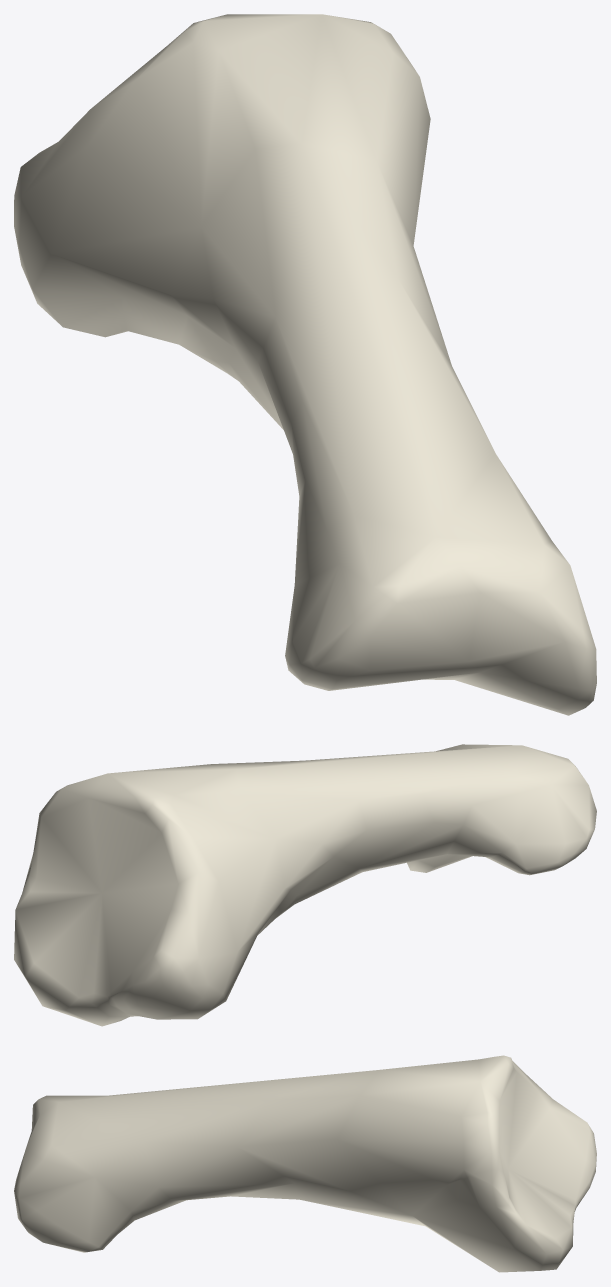
The picture shows the model from 3 angles, top to bottom: view 1: azimuth 30°, elevation 25°; view 2: azimuth 150°, elevation 25°; view 3: azimuth 270°, elevation 25°; orthographic projection. The views are drawn at different scales.
Parts seen in each view (by area): view 1: ZA_e9ea85158fac7e98; view 2: ZA_e9ea85158fac7e98; view 3: ZA_e9ea85158fac7e98.
Part boxes in pixels (x1=…): ZA_e9ea85158fac7e98: x1=14, y1=14, x2=596, y2=715; ZA_e9ea85158fac7e98: x1=14, y1=744, x2=596, y2=1026; ZA_e9ea85158fac7e98: x1=14, y1=1055, x2=596, y2=1272.
Size of the model in its own units: 0.0164 by 0.012 by 0.0302.
